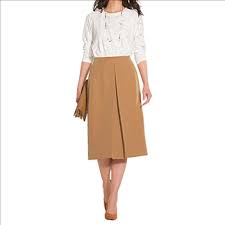C_skirt: (78, 57, 162, 168)
